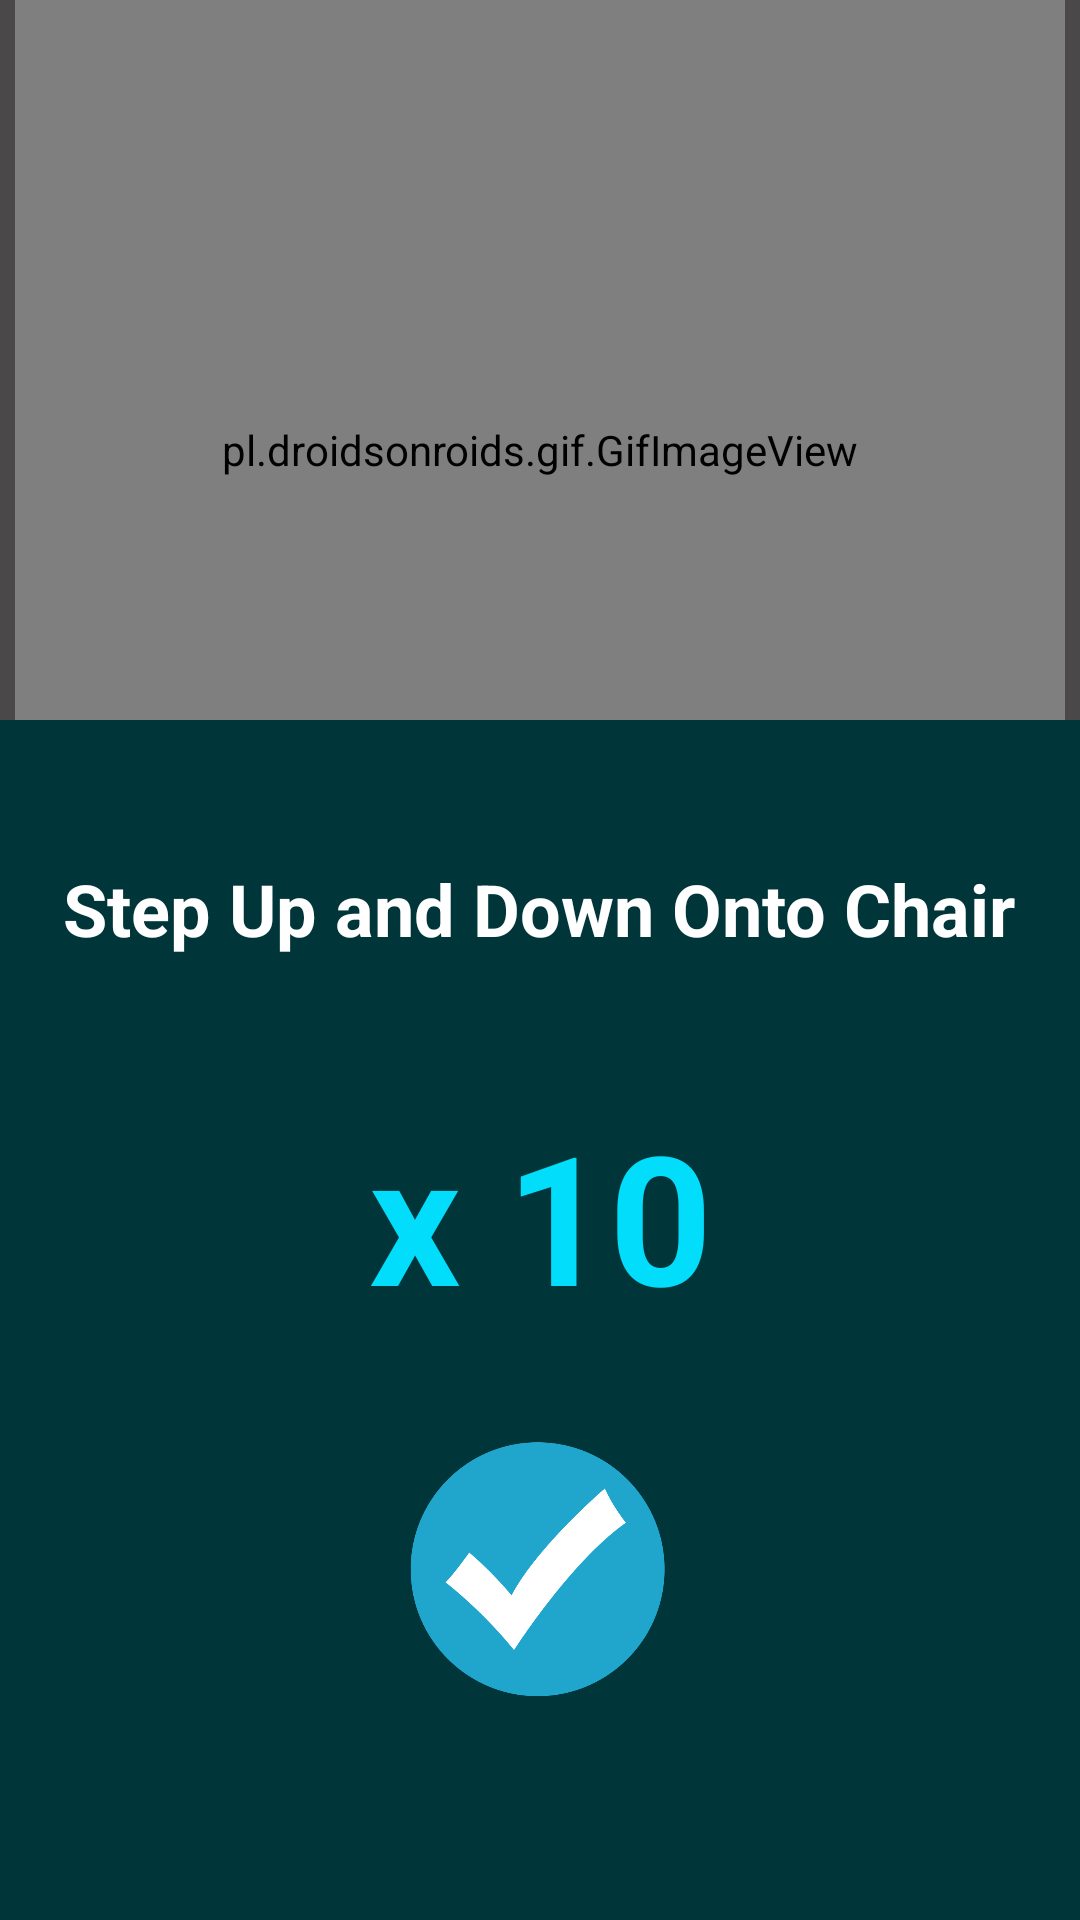

Screen size 1080w x 1920h. Icon name, then its box in pixels as (x1, y1, x2, y2):
day checked: (411, 1442, 665, 1696)
